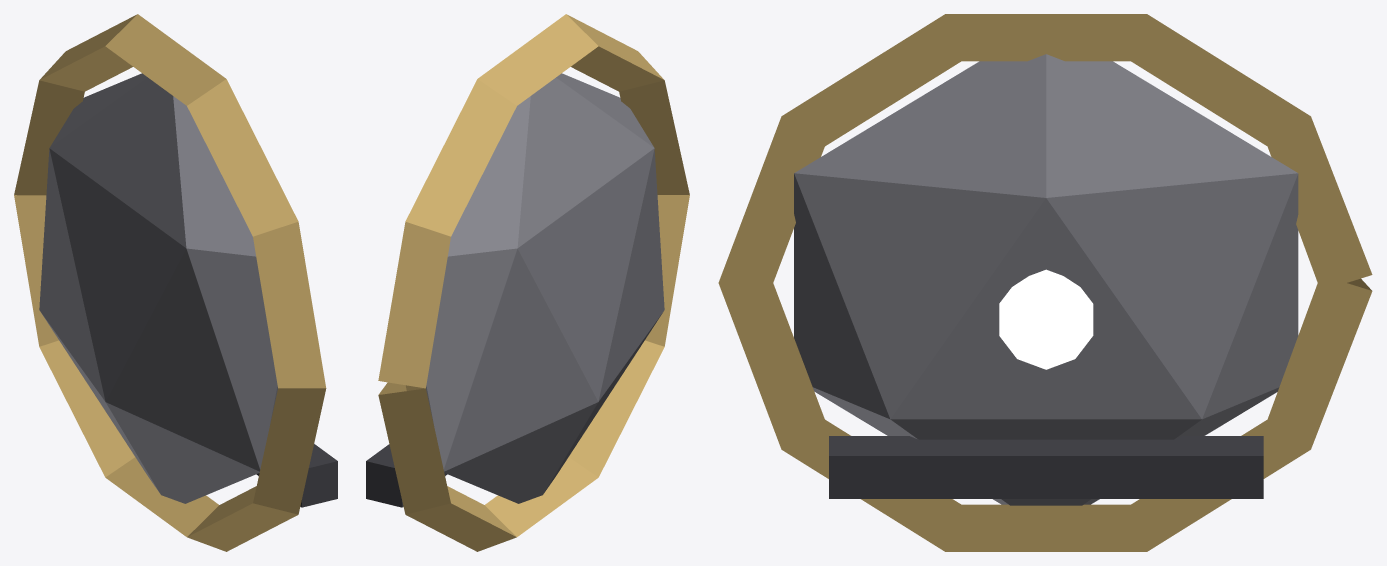
File: broad-guard.glb
3 views of the same model, side by side, from view 1: azimuth 30°, elevation 25°; view 2: azimuth 150°, elevation 25°; view 3: azimuth 270°, elevation 25° (orthographic). The views are drawn at different scales.
Visible parts, largest first — view 1: broad-guard; view 2: broad-guard; view 3: broad-guard.
Part boxes in pixels (x1,y1,x2,y2): broad-guard: (14,14,337,551); broad-guard: (366,14,689,551); broad-guard: (718,14,1372,551).
Size of the model in its own units: 0.06 by 0.1502 by 0.1655.
